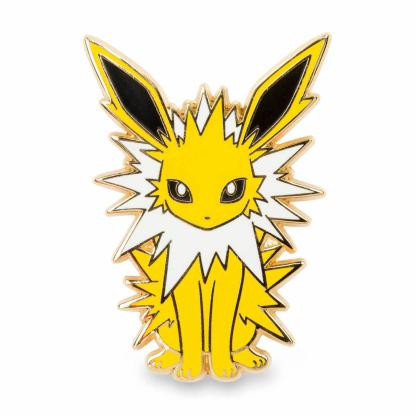Jolteon: (73, 25, 340, 389)
